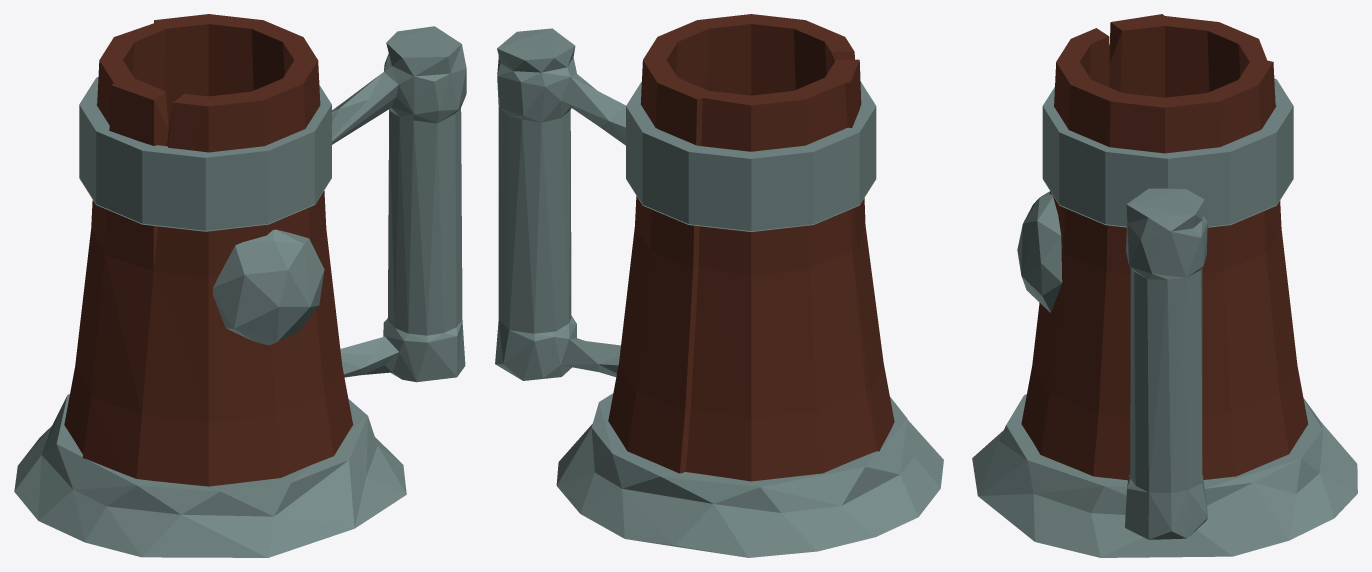
File: MDungeon_Tankard.FBX
3 views of the same model, side by side, from view 1: azimuth 30°, elevation 25°; view 2: azimuth 150°, elevation 25°; view 3: azimuth 270°, elevation 25° (orthographic).
Visible parts, largest first — view 1: MDungeon_Tankard_LOD0; view 2: MDungeon_Tankard_LOD0; view 3: MDungeon_Tankard_LOD0.
Boxes of the visible parts, x1,y1,x2,y2 form: MDungeon_Tankard_LOD0: (14,14,466,557); MDungeon_Tankard_LOD0: (495,14,943,557); MDungeon_Tankard_LOD0: (972,14,1357,557).
Size of what is drawn, in the model's own units: 0.2868 by 0.2723 by 0.2281.
1 material, 1 textured.
